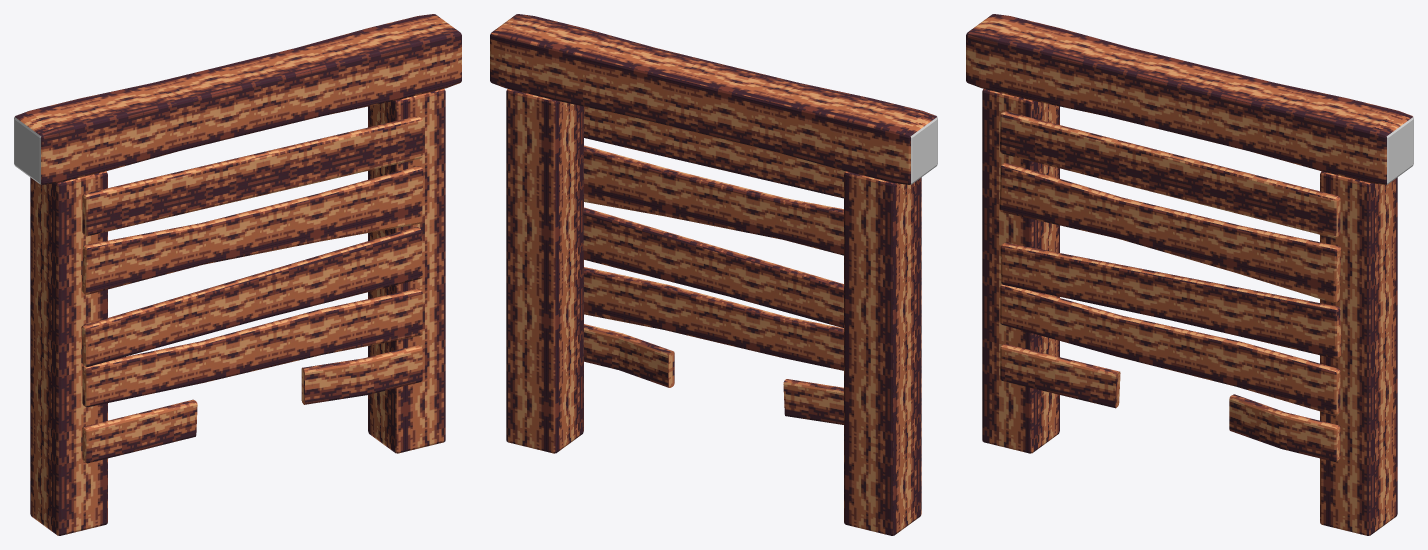
Rendered from VigaMadera 01.fbx.
3 views of the same model, side by side, from view 1: azimuth 30°, elevation 25°; view 2: azimuth 150°, elevation 25°; view 3: azimuth 330°, elevation 25° (orthographic).
Parts seen in each view (by area): view 1: VigaMadera.001; view 2: VigaMadera.001; view 3: VigaMadera.001.
Boxes of the visible parts, x1,y1,x2,y2 form: VigaMadera.001: (14, 14, 461, 535); VigaMadera.001: (490, 14, 937, 535); VigaMadera.001: (966, 14, 1413, 535).
Size of the model in its own units: 2.5 by 0.35 by 2.3.
